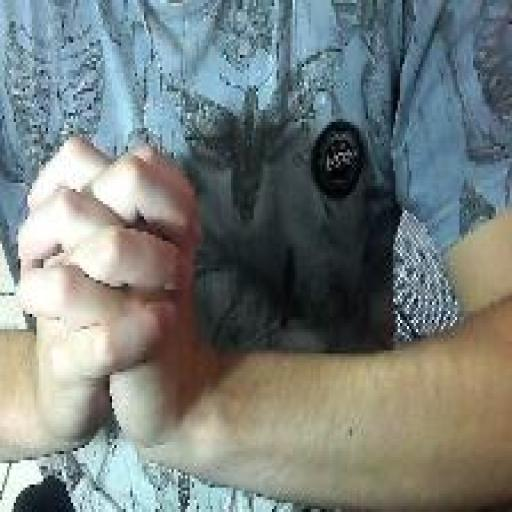Mi -snake-: (11, 131, 206, 469)
